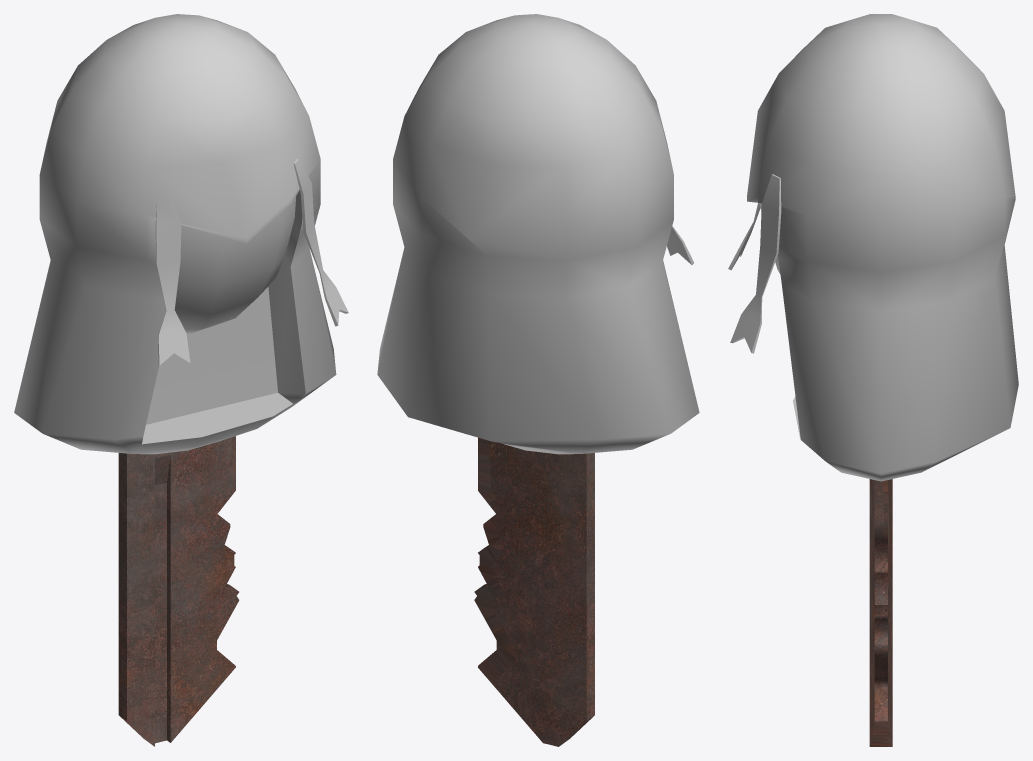
The model's file is Key_Kokeshi01.fbx.
The picture shows the model from 3 angles, left to right: view 1: azimuth 30°, elevation 25°; view 2: azimuth 150°, elevation 25°; view 3: azimuth 270°, elevation 25°; orthographic projection. The views are drawn at different scales.
Visible parts, largest first — view 1: Kokeshi_head, key_part; view 2: Kokeshi_head, key_part; view 3: Kokeshi_head, key_part.
Part boxes in pixels (x1=…): Kokeshi_head: x1=14, y1=14, x2=348, y2=454; key_part: x1=118, y1=436, x2=239, y2=746; Kokeshi_head: x1=377, y1=14, x2=699, y2=454; key_part: x1=474, y1=437, x2=594, y2=746; Kokeshi_head: x1=728, y1=14, x2=1018, y2=481; key_part: x1=869, y1=479, x2=892, y2=746.
Bounding box in the file's own units: 0.0335 × 0.0747 × 0.027.
